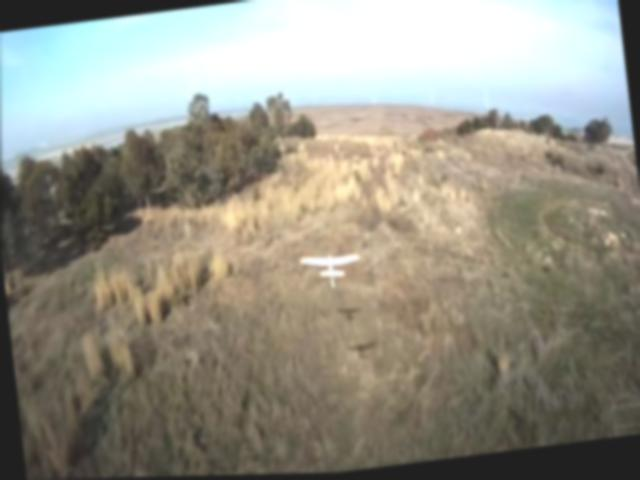uav: (293, 240, 371, 300)
